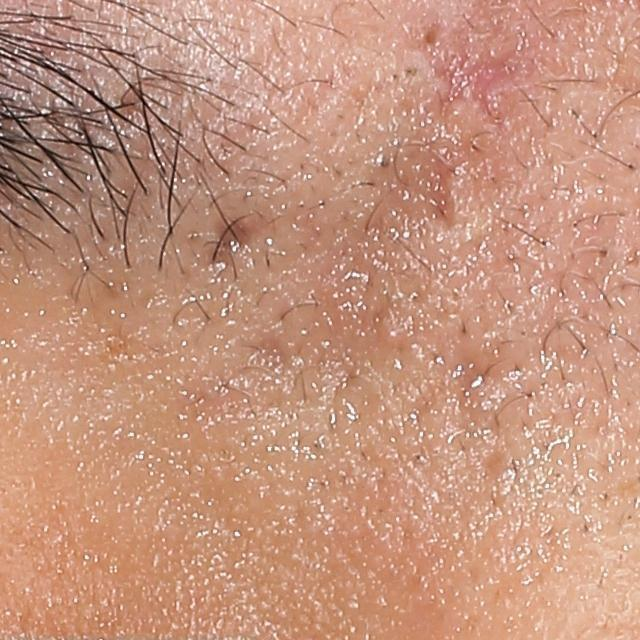atrophic_scar: (248, 94, 515, 538), (181, 209, 273, 290), (109, 63, 199, 140)
